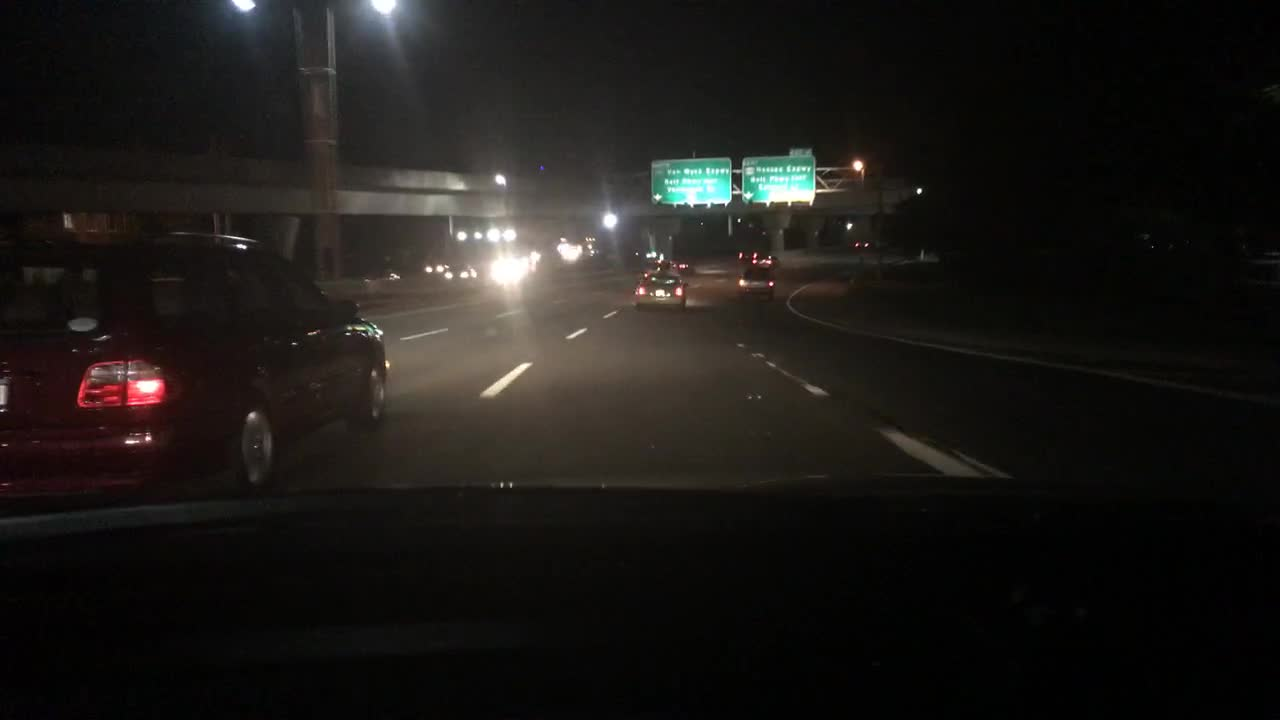car: (0, 224, 392, 503), (629, 267, 690, 315), (734, 261, 779, 303), (483, 255, 529, 279), (360, 265, 400, 285), (656, 257, 694, 277), (750, 249, 781, 271), (442, 262, 478, 280), (421, 262, 449, 277), (851, 240, 869, 255)
traffic sign: (648, 155, 733, 209), (739, 155, 816, 206), (788, 146, 813, 157)
